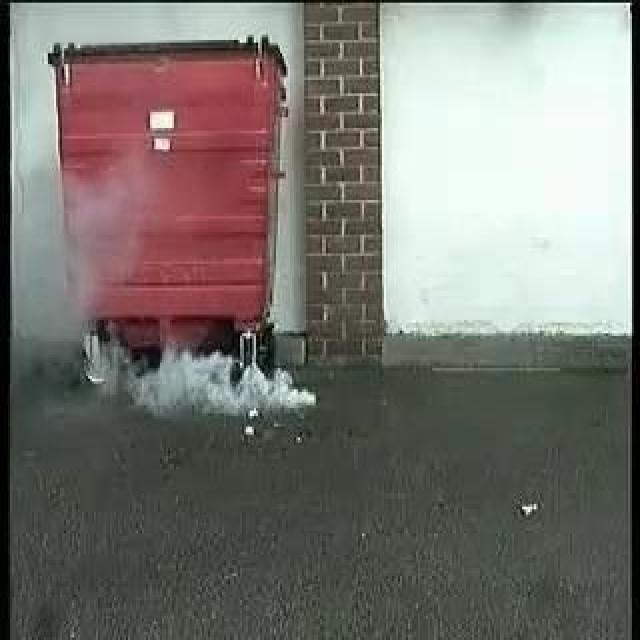Smoke: (133, 355, 313, 416)
